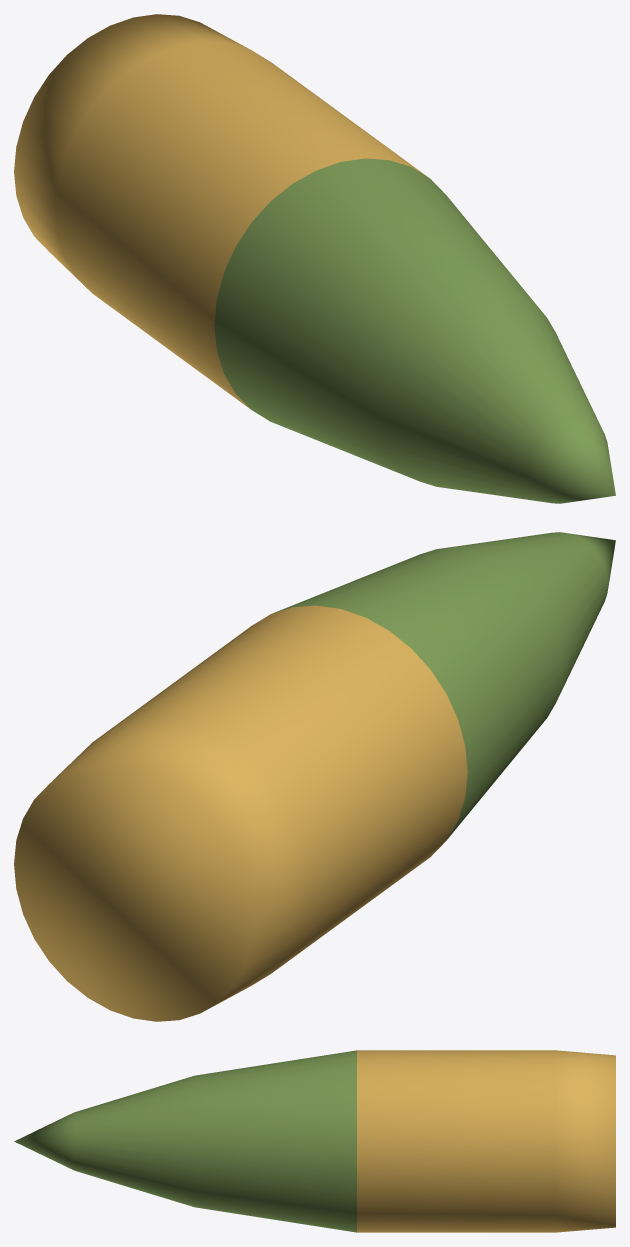
File: rotor_light_projectile_display.glb
3 renders of one model, top to bottom at view 1: azimuth 30°, elevation 25°; view 2: azimuth 150°, elevation 25°; view 3: azimuth 270°, elevation 25°, orthographic. The views are drawn at different scales.
Visible parts, largest first — view 1: AMMO_MESH.004; view 2: AMMO_MESH.004; view 3: AMMO_MESH.004.
Boxes of the visible parts, box(x1,y1,x2,y2) form: AMMO_MESH.004: box(14, 14, 615, 503); AMMO_MESH.004: box(14, 532, 615, 1021); AMMO_MESH.004: box(14, 1050, 615, 1232).
Bounding box in the file's own units: 0.00691 × 0.00691 × 0.0228.
